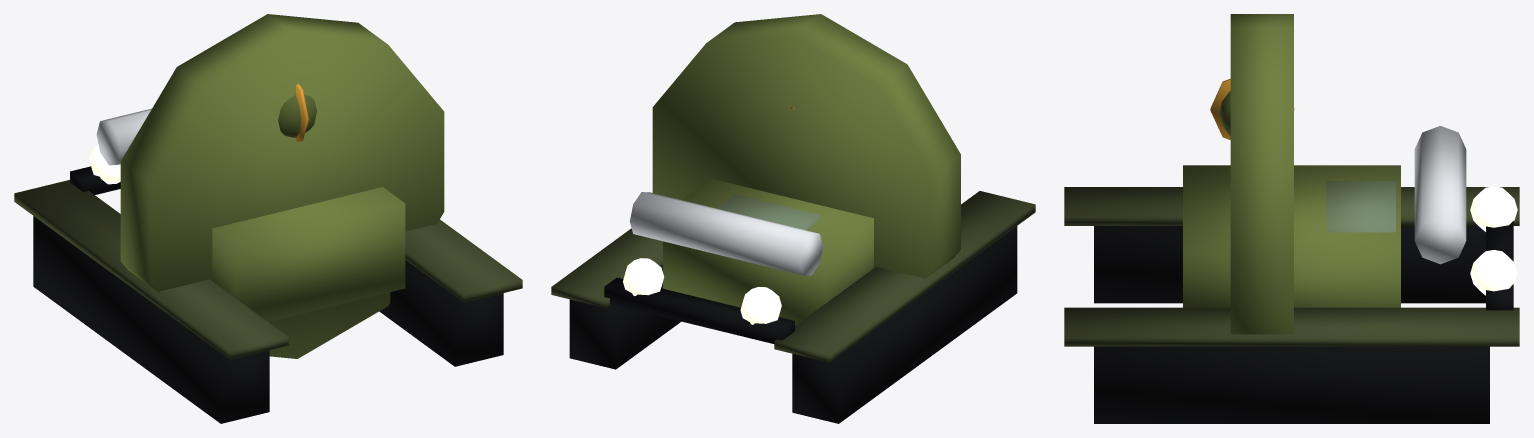
File: tanque.glb
The picture shows the model from 3 angles, left to right: view 1: azimuth 30°, elevation 25°; view 2: azimuth 150°, elevation 25°; view 3: azimuth 270°, elevation 25°; orthographic projection. The views are drawn at different scales.
Parts seen in each view (by area): view 1: Tanque; view 2: Tanque; view 3: Tanque.
Part boxes in pixels (bbox=[...]): Tanque: bbox=[14, 14, 522, 423]; Tanque: bbox=[551, 14, 1035, 423]; Tanque: bbox=[1064, 14, 1519, 423].
Bounding box in the file's own units: 1.81 × 1.9 × 2.3.
